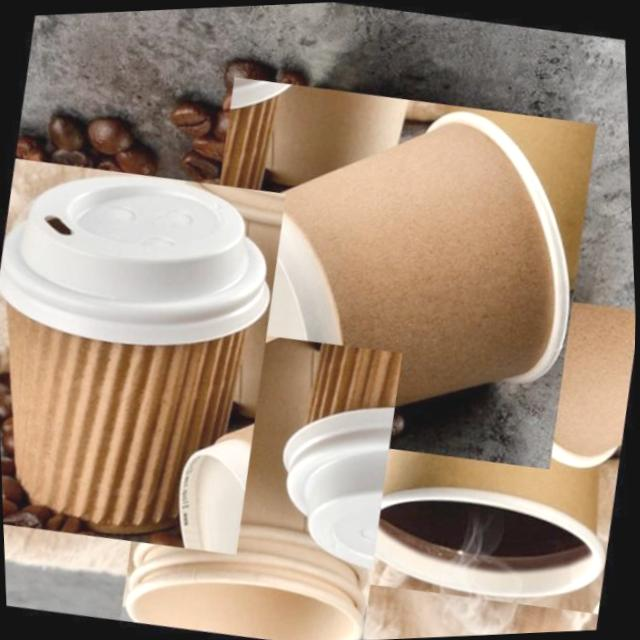Cup: (169, 57, 616, 487), (0, 144, 305, 567), (346, 266, 637, 625), (106, 308, 418, 640)
